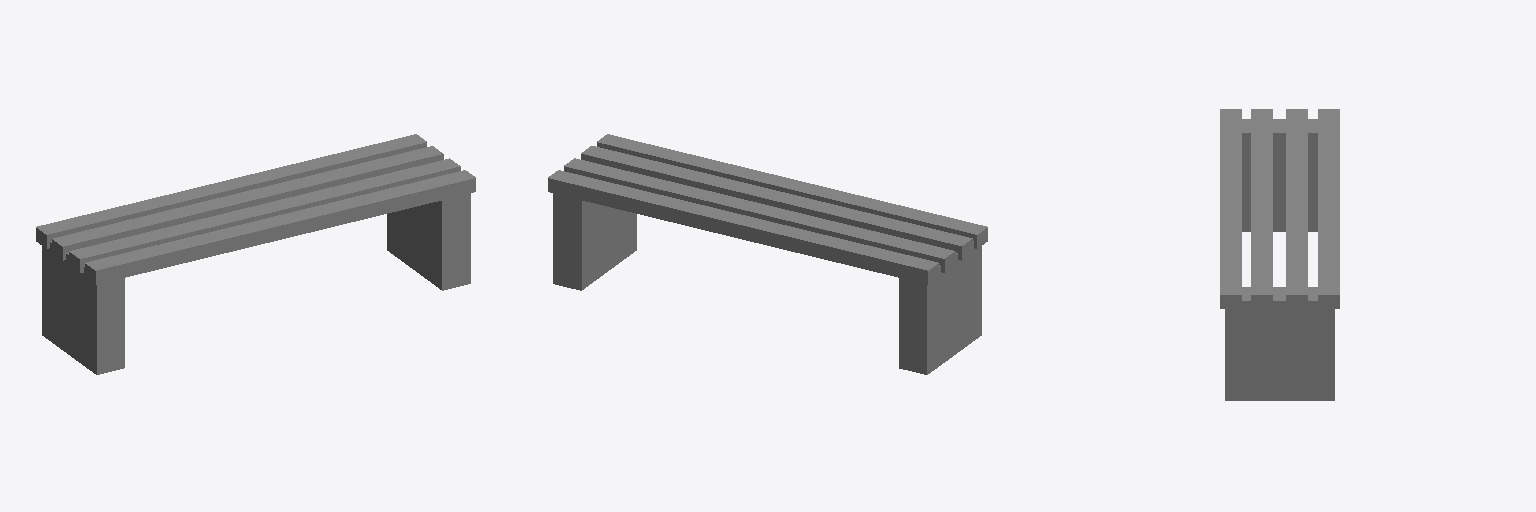
File: Obstacle_024.obj
The picture shows the model from 3 angles: view 1: azimuth 30°, elevation 25°; view 2: azimuth 150°, elevation 25°; view 3: azimuth 270°, elevation 25°; orthographic projection.
Visible parts, largest first — view 1: Box057, Box059, Box058; view 2: Box057, Box059, Box058; view 3: Box057, Box058, Box059.
Boxes of the visible parts, x1=… form: Box057: x1=36, y1=134, x2=475, y2=284; Box059: x1=42, y1=241, x2=124, y2=374; Box058: x1=387, y1=193, x2=470, y2=290; Box057: x1=548, y1=134, x2=987, y2=284; Box059: x1=899, y1=241, x2=981, y2=374; Box058: x1=553, y1=193, x2=636, y2=290; Box057: x1=1220, y1=109, x2=1339, y2=308; Box058: x1=1225, y1=287, x2=1334, y2=400; Box059: x1=1242, y1=119, x2=1317, y2=231.
Size of the model in its own units: 78.74 by 21.16 by 21.48.